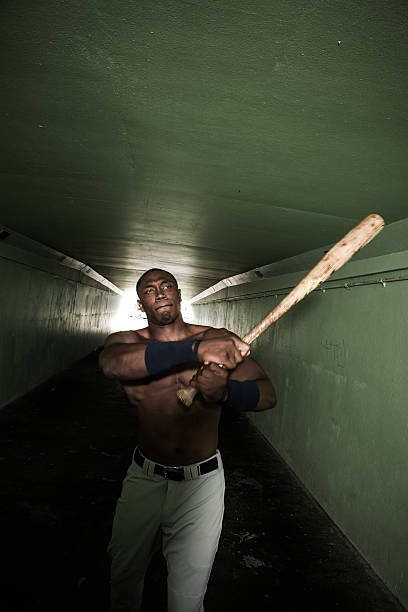bita: (186, 217, 383, 406)
